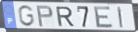7: (76, 5, 90, 28)
E: (93, 5, 114, 28)
G: (17, 5, 36, 28)
I: (116, 6, 124, 29)
P: (36, 5, 55, 28)
R: (55, 6, 76, 27)
